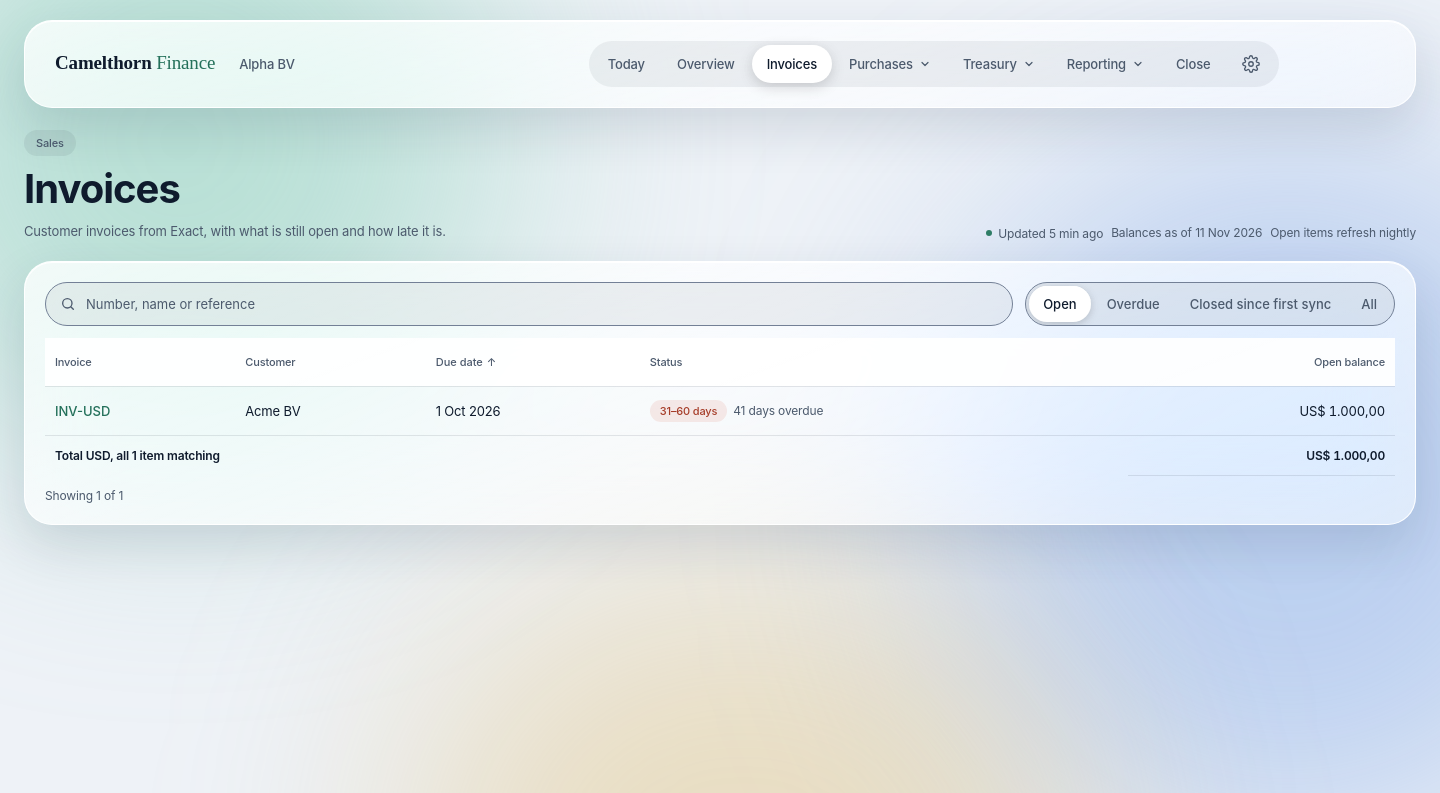
FxProvider when the rate table cannot be built › is the 'could not be read' state; the page and the shell stay up
The image size is (1440, 793).
Click the button "INV-USD": x=83, y=411 [55,399,110,423]
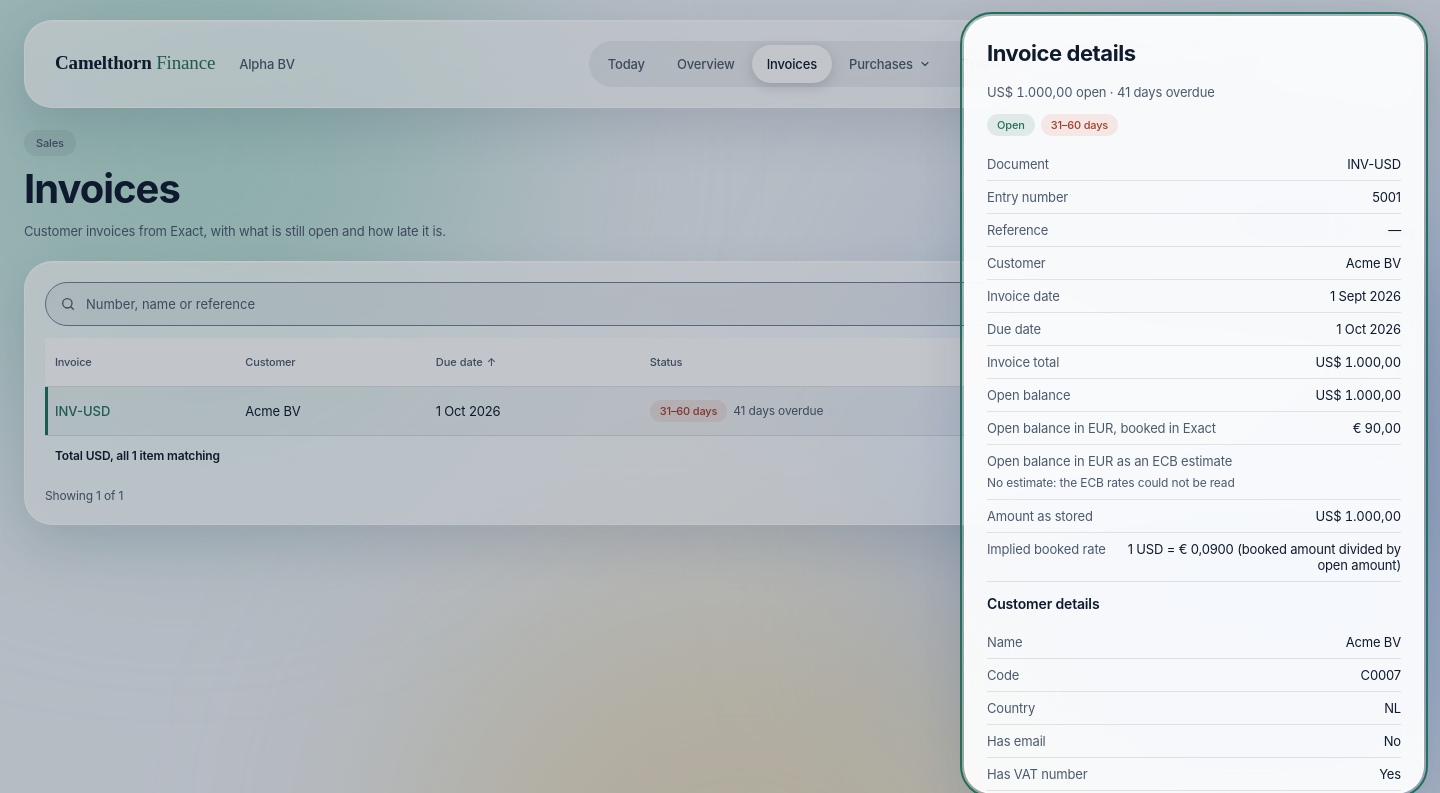
Expected: the navigation bar is shown, [24,20,1416,108]
Now the text "No estimate: the ECB rates could not be read" is shown, box [987,475,1235,491]
